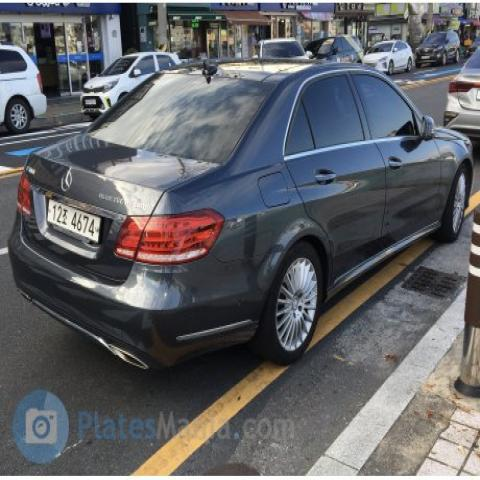LP: (39, 189, 112, 256)
